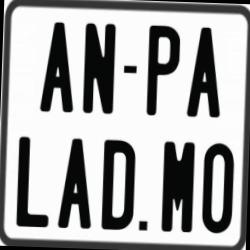0: (201, 143, 235, 237)
A: (57, 138, 96, 230), (39, 21, 78, 112), (186, 26, 224, 117)
D: (100, 140, 138, 231)
L: (16, 136, 53, 228)
M: (161, 142, 195, 233)
N: (82, 21, 118, 114)
P: (147, 25, 184, 119)
